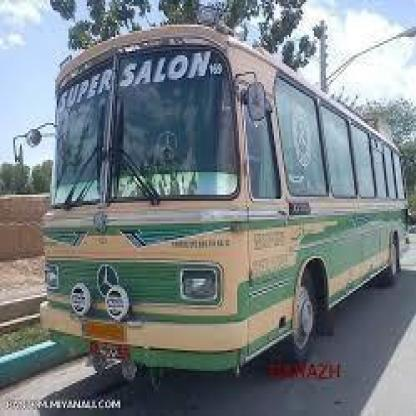Bus: (0, 19, 416, 384)
